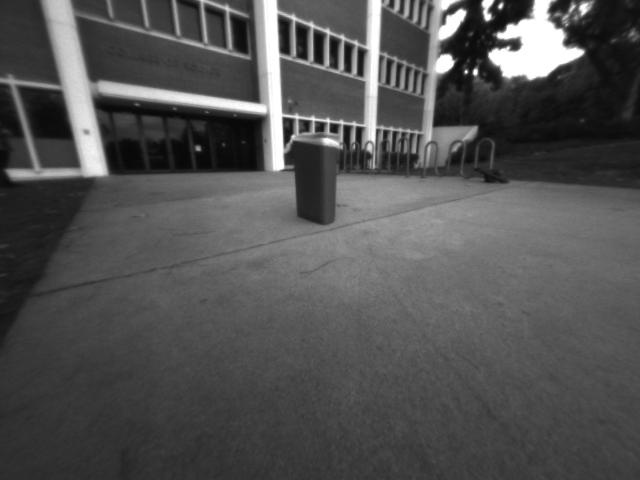trashcan_open: (284, 129, 340, 229)
